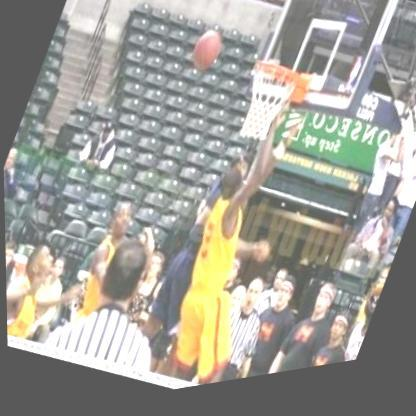basketball: (181, 27, 230, 85)
